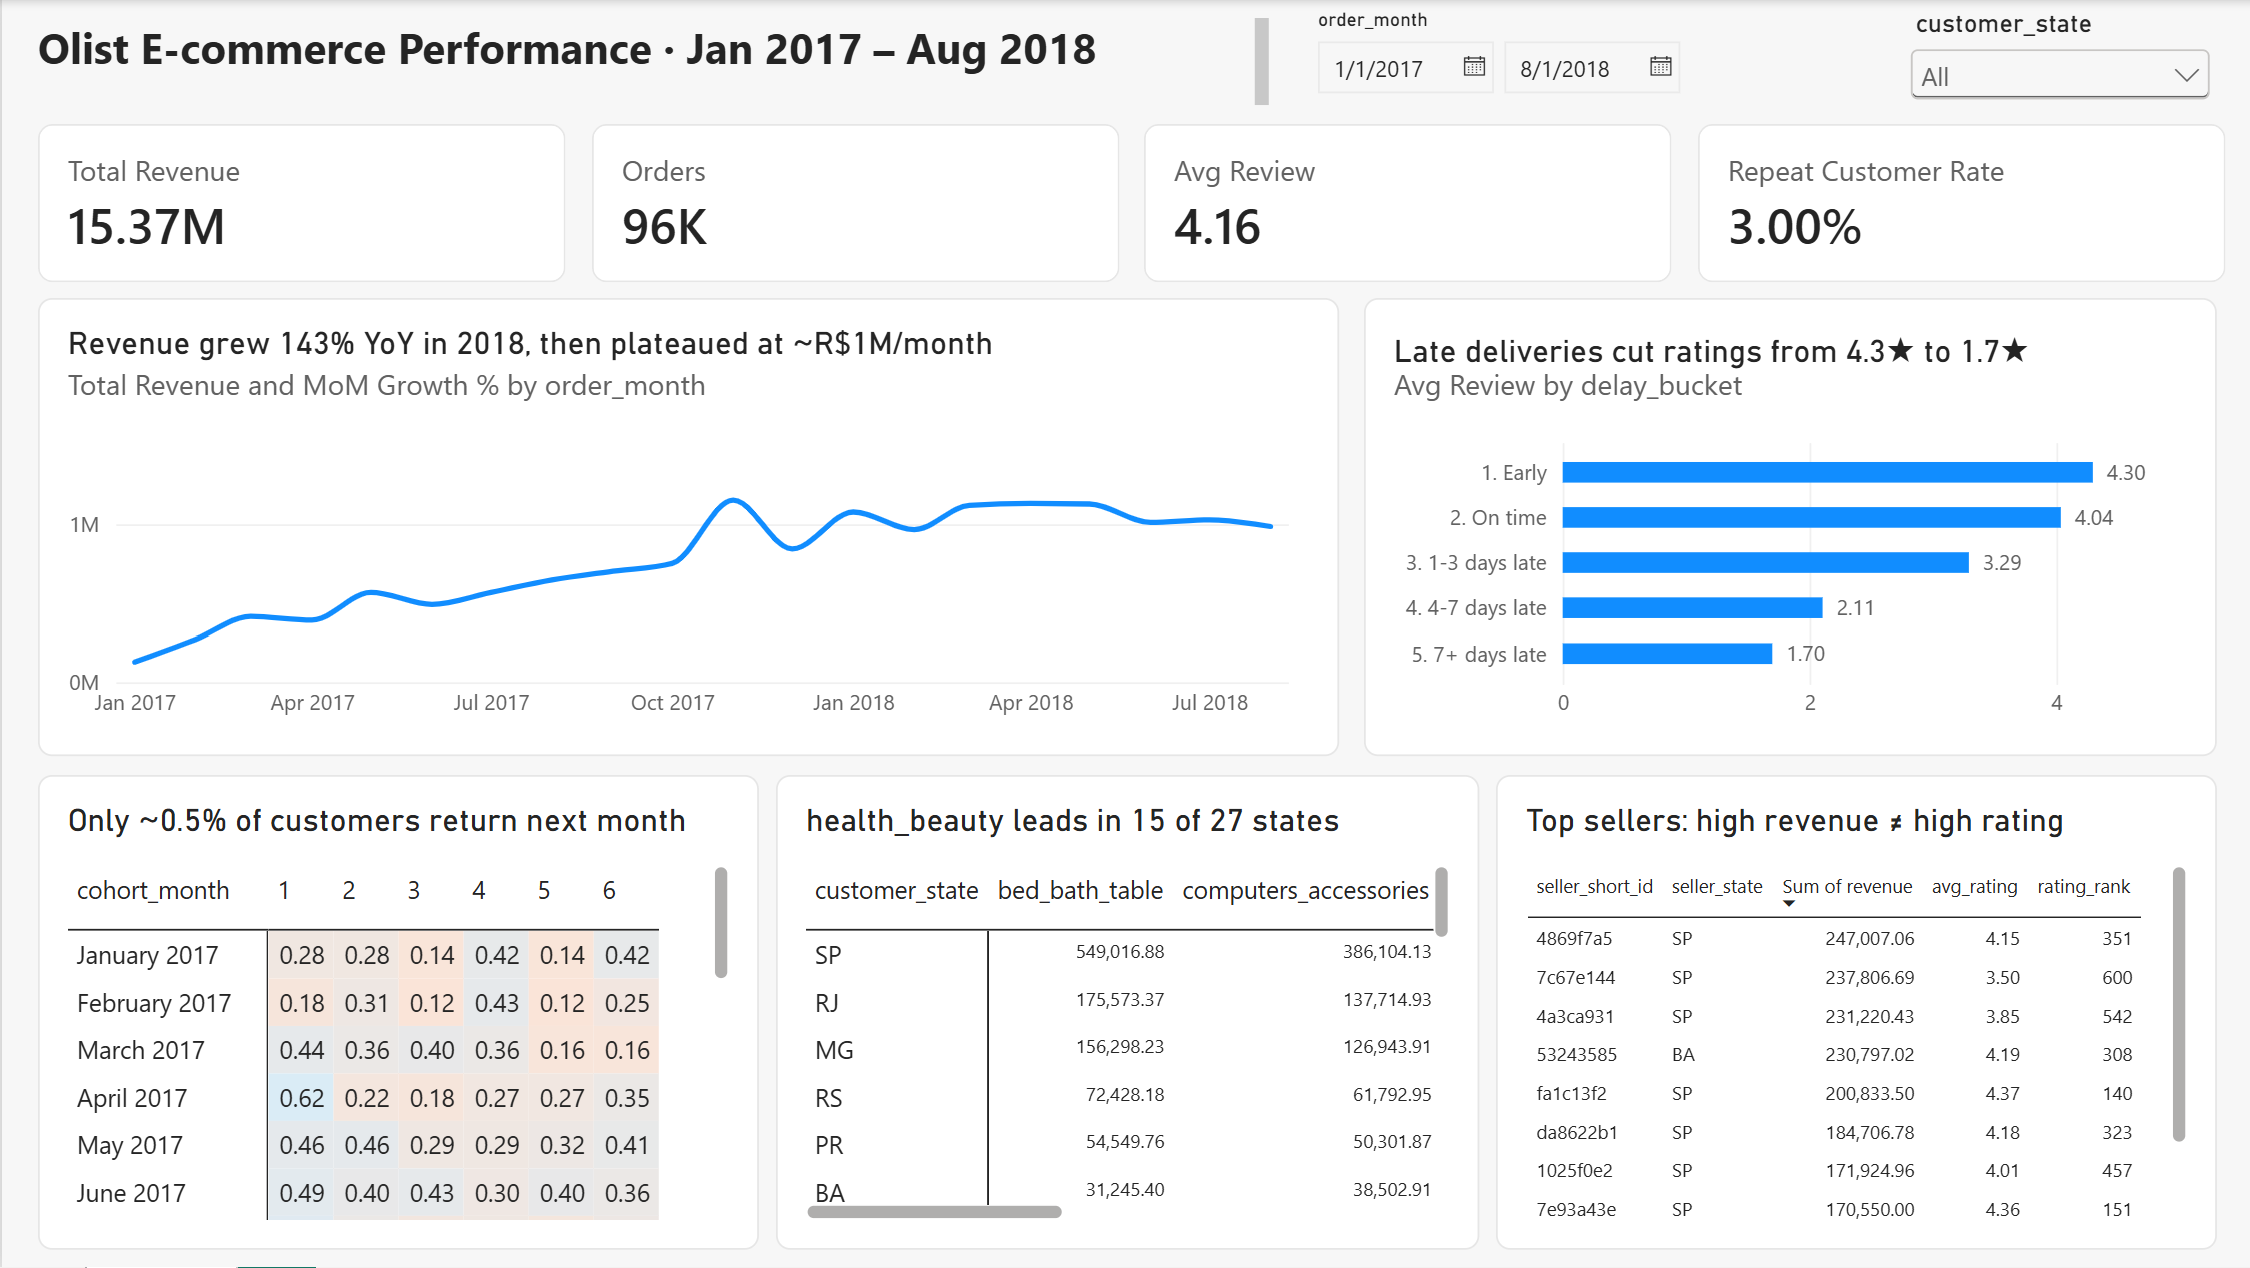

The page's visual inventory and layout, read from the dashboard file:
{"tool":"powerbi","page":{"name":"Page 1","canvas":[1280,720],"ordinal":0},"visuals":[{"type":"cardVisual","fields":{"Data":["vw_orders.Total Revenue"]},"box":[20,70,300,90],"z":0},{"type":"cardVisual","fields":{"Data":["vw_orders.Avg Review"]},"box":[650,70,300,90],"z":1000},{"type":"cardVisual","fields":{"Data":["vw_orders.Orders"]},"box":[335,70,300,90],"z":2000},{"type":"cardVisual","fields":{"Data":["vw_orders.Repeat Customer Rate"]},"box":[965,70,300,90],"z":3000},{"type":"slicer","fields":{"Values":["vw_orders.order_month"]},"box":[740,5,320,60],"z":4000},{"type":"slicer","fields":{"Values":["vw_orders.customer_state"]},"box":[1080,5,180,60],"z":5000},{"type":"textbox","box":[20,10,700,50],"z":6000},{"type":"lineChart","title":"Revenue grew 143% YoY in 2018, then plateaued at ~R$1M/month","fields":{"Category":["vw_orders.order_month.Variation.Date Hierarchy.Year"],"Y":["vw_orders.Total Revenue"]},"box":[20,170,740,260],"z":6001},{"type":"clusteredBarChart","title":"Late deliveries cut ratings from 4.3★ to 1.7★","fields":{"Category":["vw_orders.delay_bucket"],"Y":["vw_orders.Avg Review"]},"box":[775,170,485,260],"z":6002},{"type":"tableEx","title":"Top sellers: high revenue ≠ high rating","fields":{"Values":["vw_seller_summary.seller_short_id","vw_seller_summary.seller_state","Sum(vw_seller_summary.revenue)","vw_seller_summary.avg_rating","vw_seller_summary.rating_rank"]},"box":[850,440,410,270],"z":6003},{"type":"pivotTable","title":"health_beauty leads in 15 of 27 states","fields":{"Columns":["vw_order_items.category"],"Rows":["vw_orders.customer_state"],"Values":["Sum(vw_order_items.revenue)"]},"box":[440,440,400,270],"z":6004},{"type":"pivotTable","title":"Only ~0.5% of customers return next month","fields":{"Columns":["vw_cohort_retention.month_number"],"Rows":["vw_cohort_retention.cohort_month"],"Values":["Sum(vw_cohort_retention.retention_pct)"]},"box":[20,440,410,270],"z":6005}]}

Visuals, with their boxes in screenshot pixels (x1, y1, x2, y2), scaled from the page's 1280x720 canvas onto the 2250x1268 screenshot:
cardVisual - vw_orders.Total Revenue: (left=35, top=123, right=562, bottom=282)
cardVisual - vw_orders.Avg Review: (left=1143, top=123, right=1670, bottom=282)
cardVisual - vw_orders.Orders: (left=589, top=123, right=1116, bottom=282)
cardVisual - vw_orders.Repeat Customer Rate: (left=1696, top=123, right=2224, bottom=282)
slicer - vw_orders.order_month: (left=1301, top=9, right=1863, bottom=114)
slicer - vw_orders.customer_state: (left=1898, top=9, right=2215, bottom=114)
textbox: (left=35, top=18, right=1266, bottom=106)
"Revenue grew 143% YoY in 2018, then plateaued at ~R$1M/month" lineChart: (left=35, top=299, right=1336, bottom=757)
"Late deliveries cut ratings from 4.3★ to 1.7★" clusteredBarChart: (left=1362, top=299, right=2215, bottom=757)
"Top sellers: high revenue ≠ high rating" tableEx: (left=1494, top=775, right=2215, bottom=1250)
"health_beauty leads in 15 of 27 states" pivotTable: (left=773, top=775, right=1477, bottom=1250)
"Only ~0.5% of customers return next month" pivotTable: (left=35, top=775, right=756, bottom=1250)
